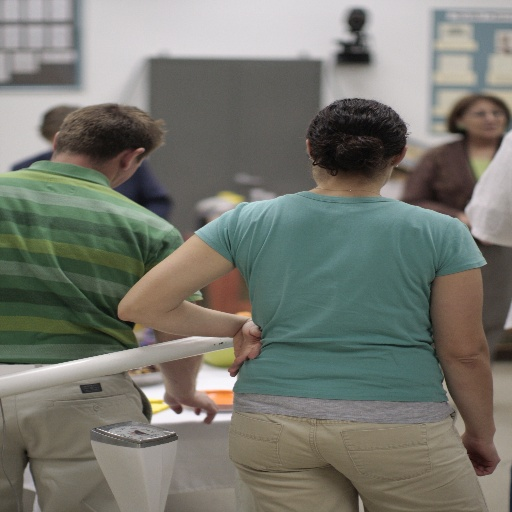hand: (159, 389, 220, 425), (227, 315, 263, 376), (458, 432, 503, 477)
